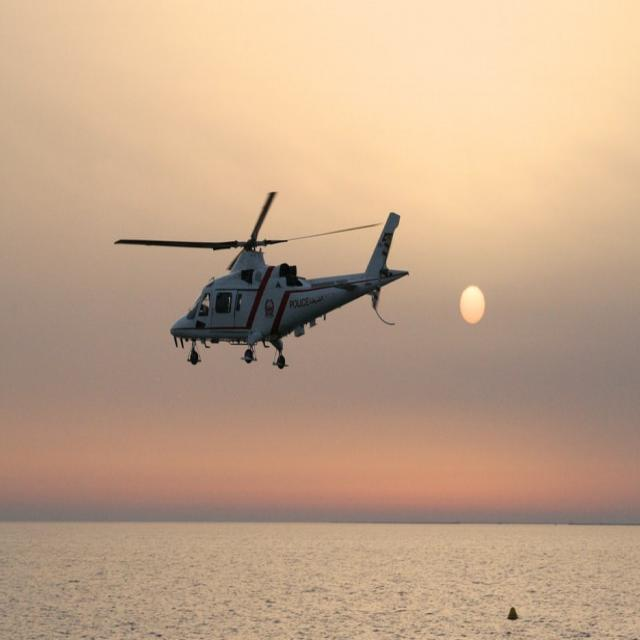helicopter: (134, 196, 409, 373)
